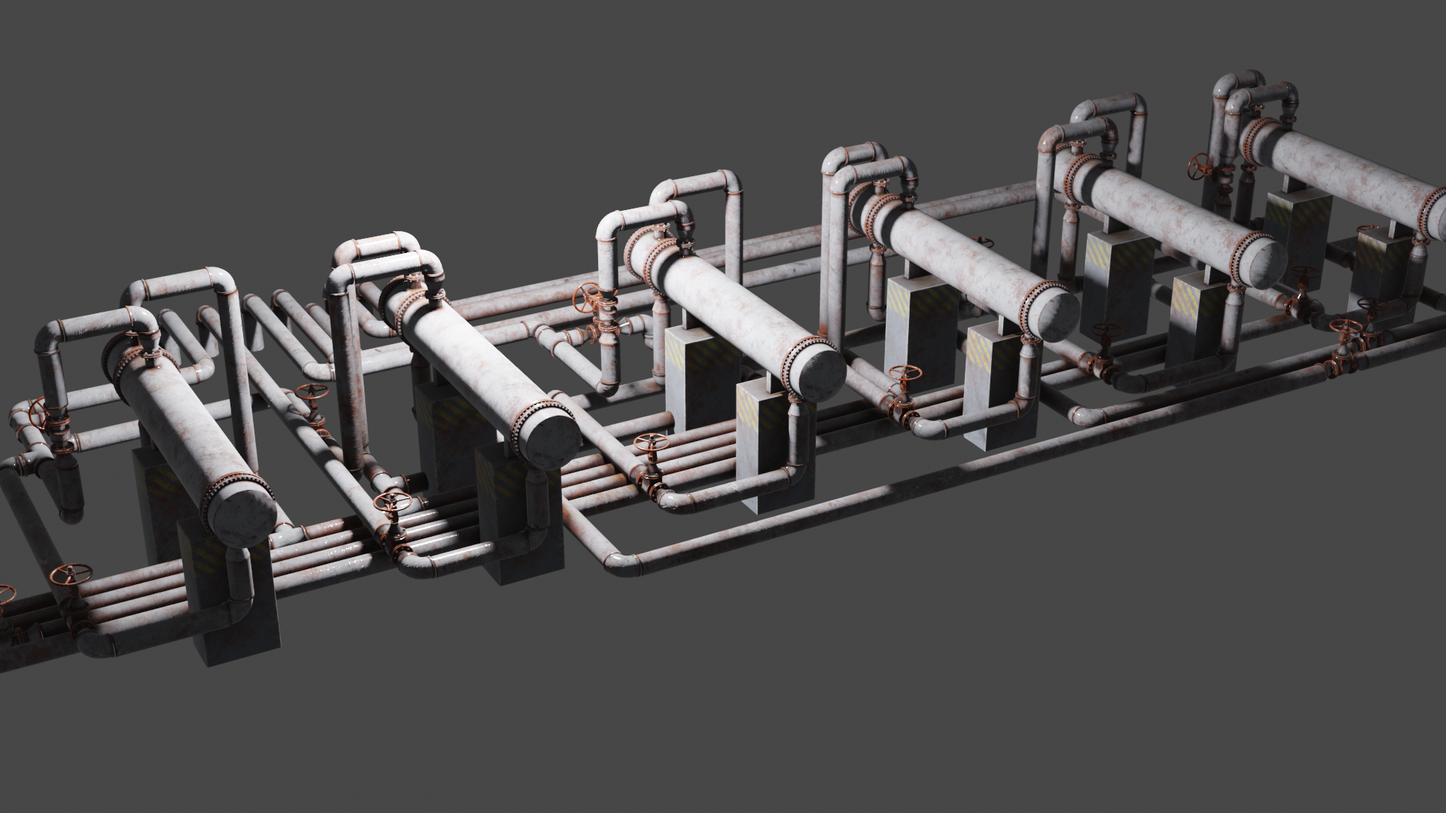HE_1: (1231, 112, 1446, 245)
HE_2: (1051, 138, 1294, 288)
HE_3: (844, 171, 1077, 340)
HE_4: (621, 221, 847, 396)
HE_5: (377, 272, 577, 463)
HE_6: (100, 329, 275, 543)
